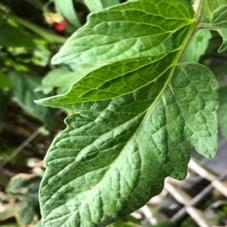Healthy: (30, 0, 221, 227)
